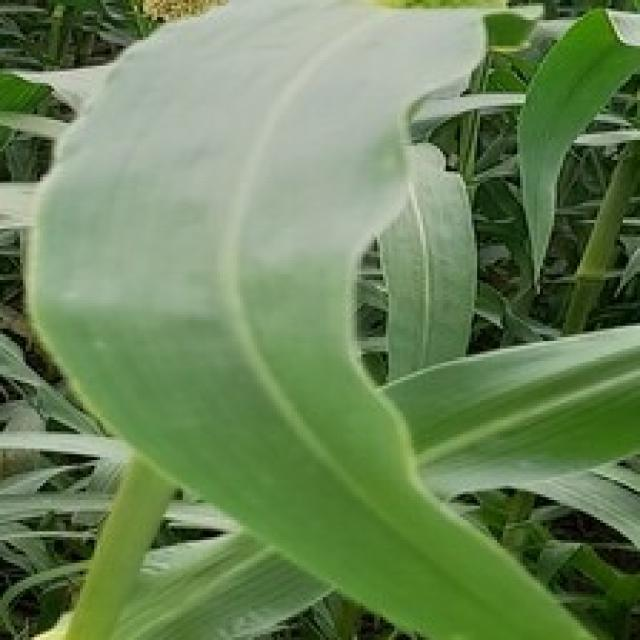Corn: (17, 0, 637, 637), (512, 3, 637, 291)
